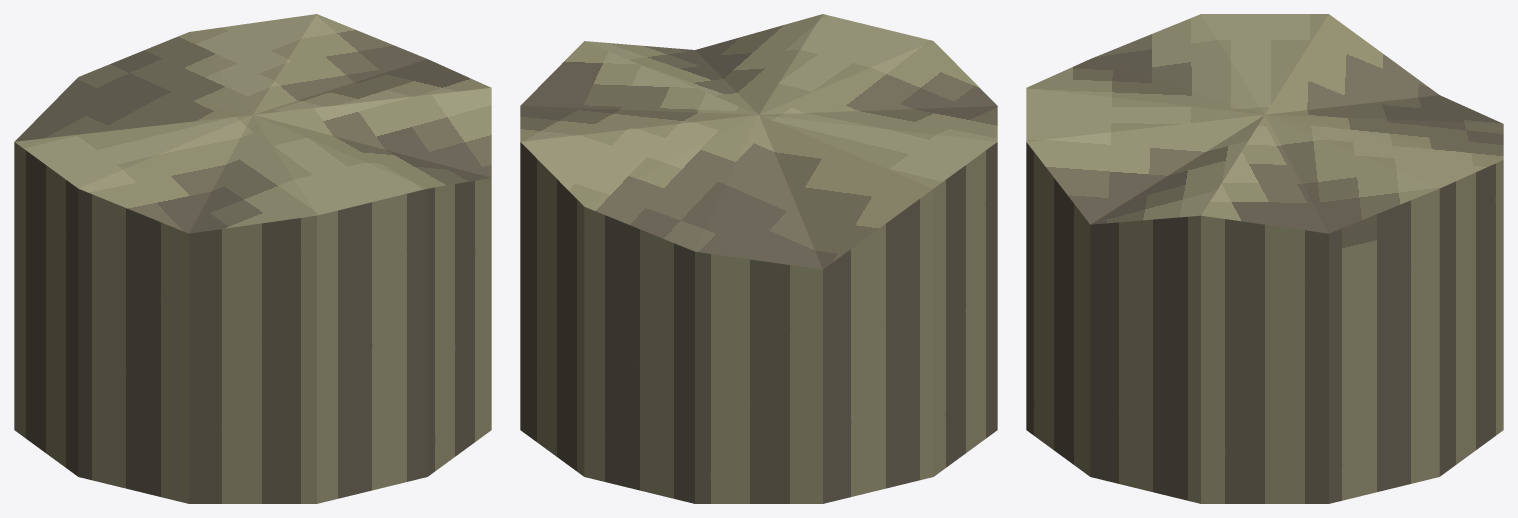
File: Pillar Top.gltf
3 renders of one model, left to right at view 1: azimuth 30°, elevation 25°; view 2: azimuth 150°, elevation 25°; view 3: azimuth 270°, elevation 25°, orthographic.
Parts seen in each view (by area): view 1: cylinder; view 2: cylinder; view 3: cylinder.
Boxes of the visible parts, x1,y1,x2,y2 form: cylinder: [14, 14, 491, 503]; cylinder: [520, 14, 997, 503]; cylinder: [1026, 14, 1503, 503].
Size of the model in its own units: 0.75 by 0.5 by 0.75.
1 material, 1 textured.
